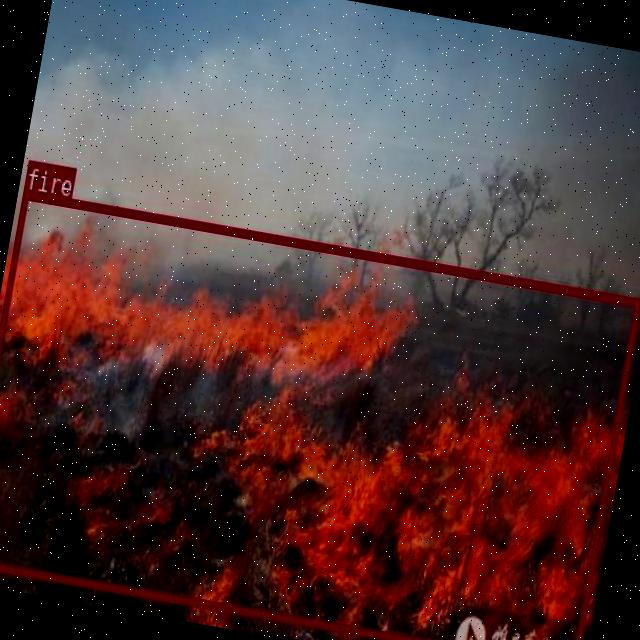fire: (0, 189, 639, 640)
